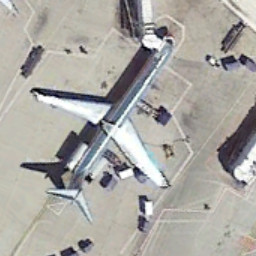Airplane: (29, 26, 192, 230)
